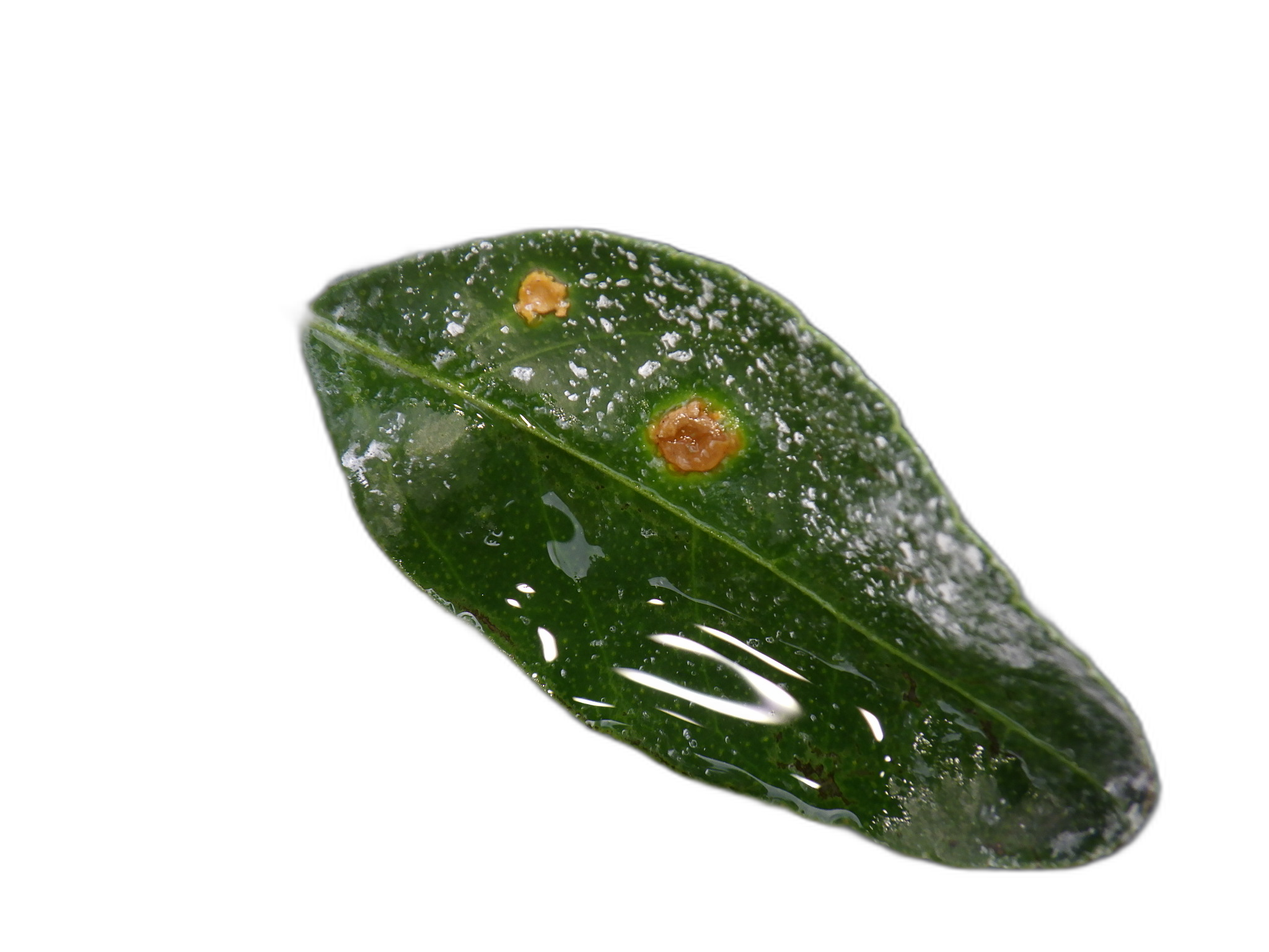Canker: (649, 397, 739, 472), (515, 270, 569, 326)
